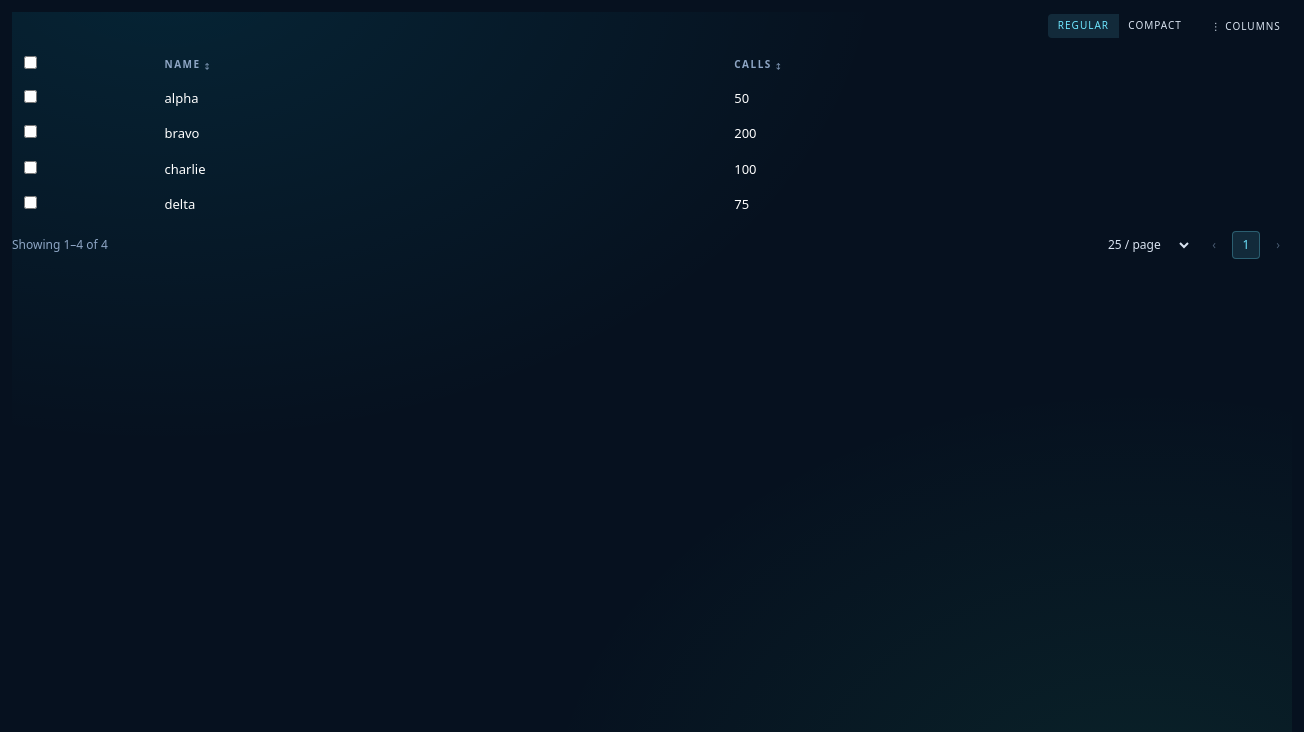
Test: <AdminDataTable /> › select-all toggles every visible row
Step 1. Click the checkbox named "Select all rows on this page" → x=30, y=62, box [24, 56, 37, 69]
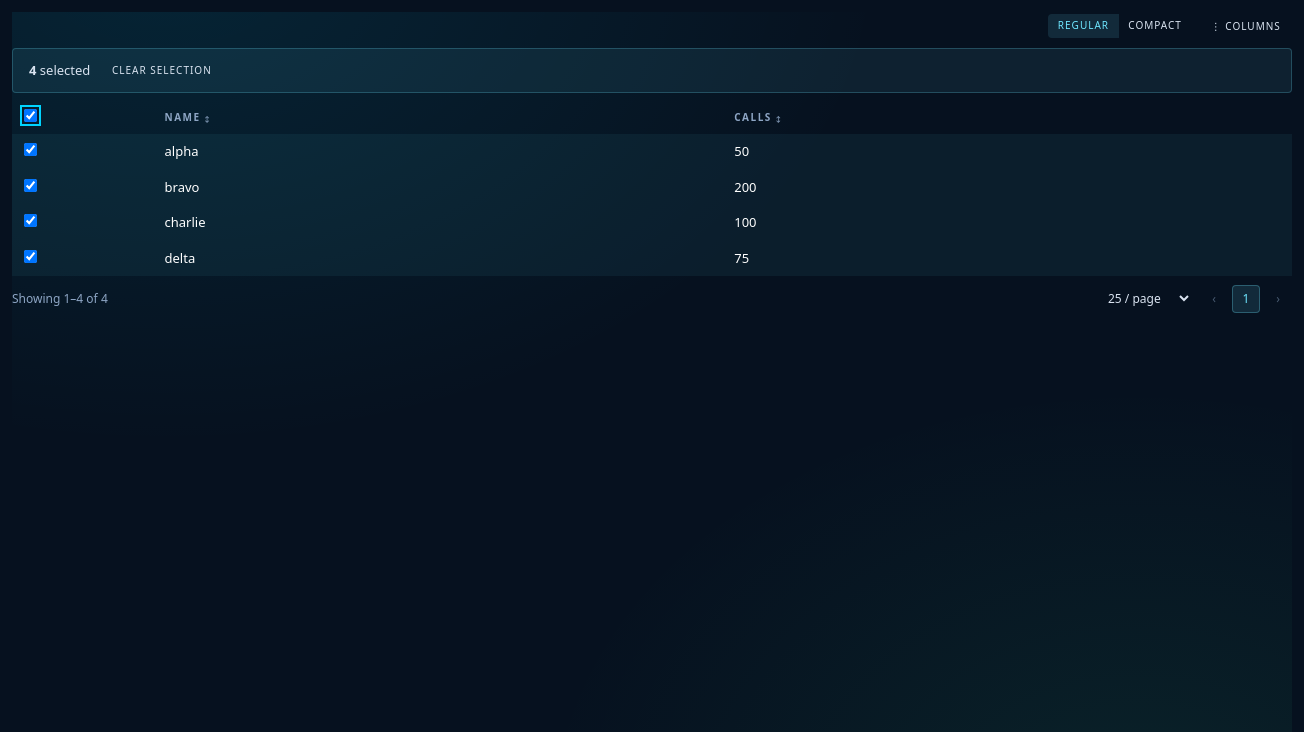
Check: the text "4 selected" is shown, box [29, 61, 90, 80]
